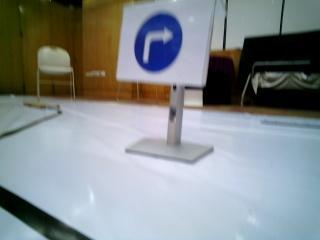right: (120, 5, 212, 87)
